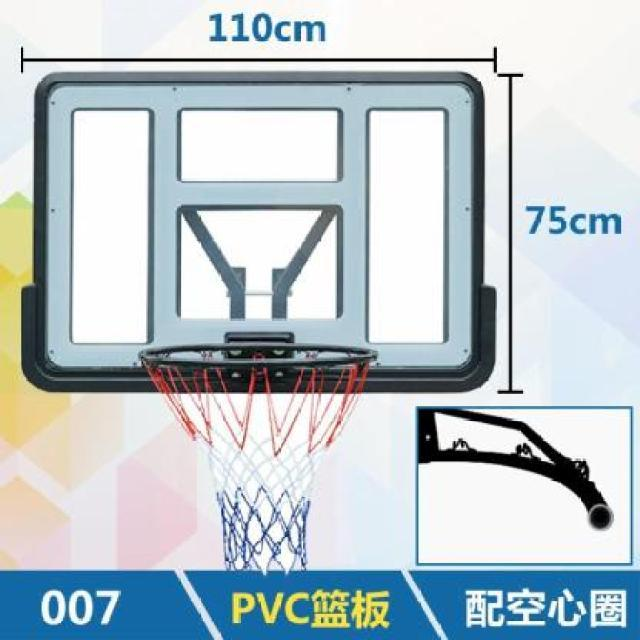rim: (134, 344, 380, 570)
